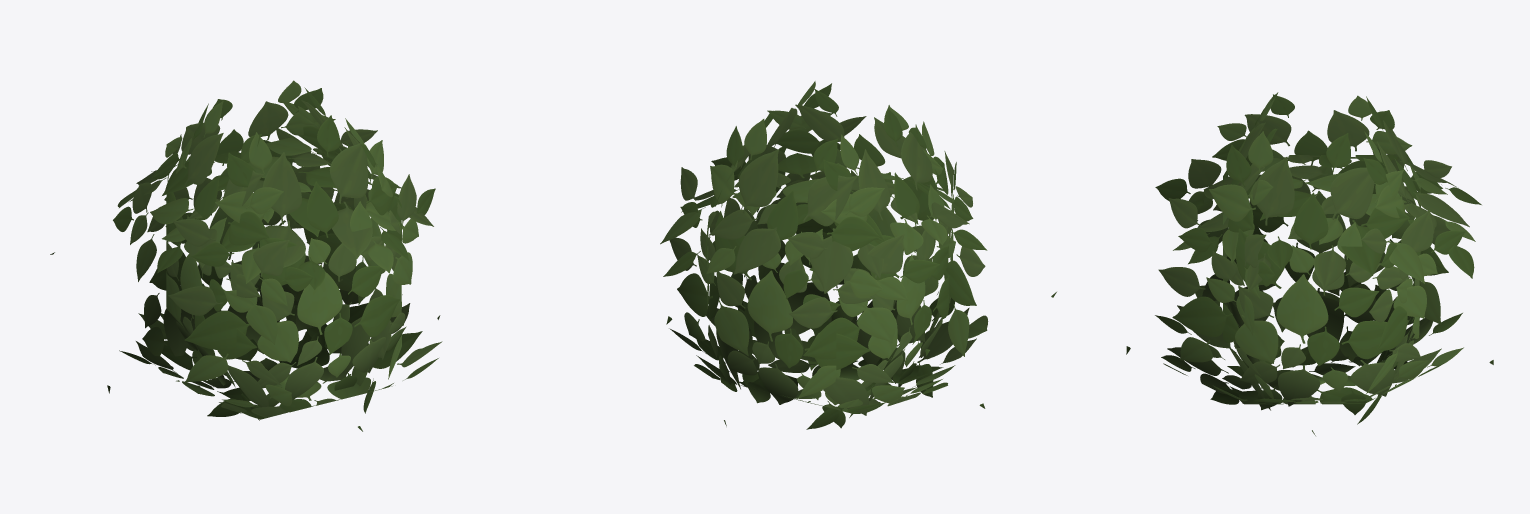
File: Rocks_Bush1.fbx
3 renders of one model, left to right at view 1: azimuth 30°, elevation 25°; view 2: azimuth 150°, elevation 25°; view 3: azimuth 270°, elevation 25°, orthographic. The views are drawn at different scales.
Visible parts, largest first — view 1: Rocks_Bush1_LOD0; view 2: Rocks_Bush1_LOD0; view 3: Rocks_Bush1_LOD0.
Boxes of the visible parts, <box> form: Rocks_Bush1_LOD0: <box>50,80,442,431</box>; Rocks_Bush1_LOD0: <box>660,81,1056,429</box>; Rocks_Bush1_LOD0: <box>1126,92,1493,435</box>.
Size of what is drawn, in the model's own units: 153 by 150 by 163.
